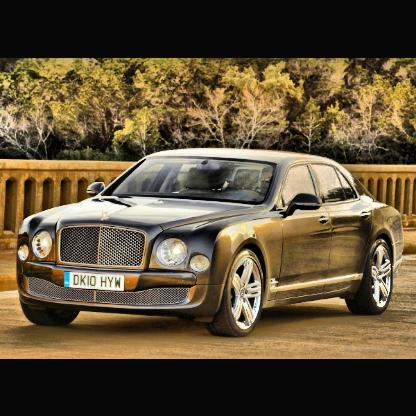Bentley Mulsanne Sedan 2011: (16, 147, 407, 340)
